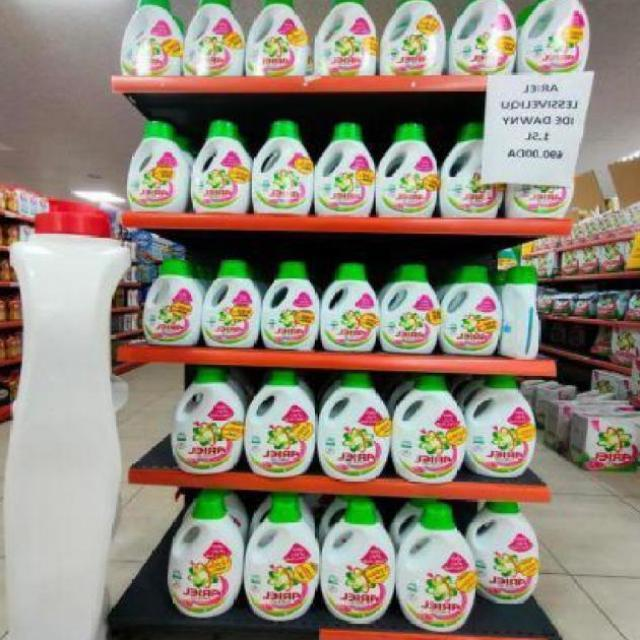Detergent: (397, 502, 493, 635), (157, 490, 248, 619), (324, 477, 400, 626), (248, 491, 326, 624), (317, 368, 398, 485), (462, 501, 550, 604), (395, 366, 471, 485), (106, 115, 198, 212), (461, 366, 534, 480), (167, 365, 241, 474), (508, 0, 602, 83), (374, 108, 441, 223), (241, 370, 315, 473), (433, 113, 500, 223), (186, 111, 255, 212), (437, 255, 504, 358), (253, 112, 317, 213), (316, 258, 383, 350), (257, 255, 322, 349), (199, 255, 263, 350), (444, 0, 521, 77), (377, 266, 443, 355), (313, 120, 374, 215), (144, 250, 205, 345), (377, 0, 447, 82), (117, 0, 186, 82), (306, 0, 381, 74), (245, 0, 320, 74), (179, 0, 245, 78)
